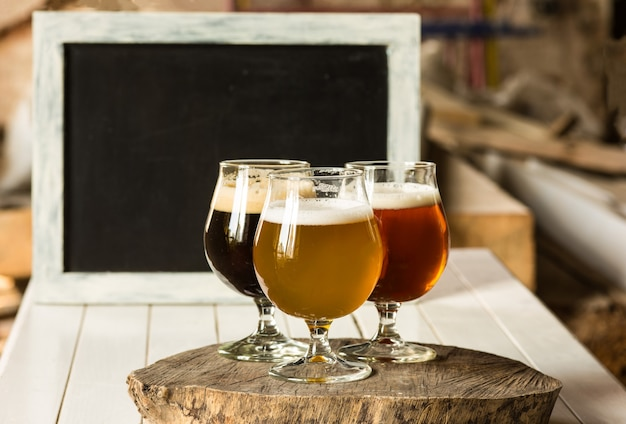alcohol: (263, 170, 383, 384), (204, 157, 317, 362), (342, 160, 448, 365)
